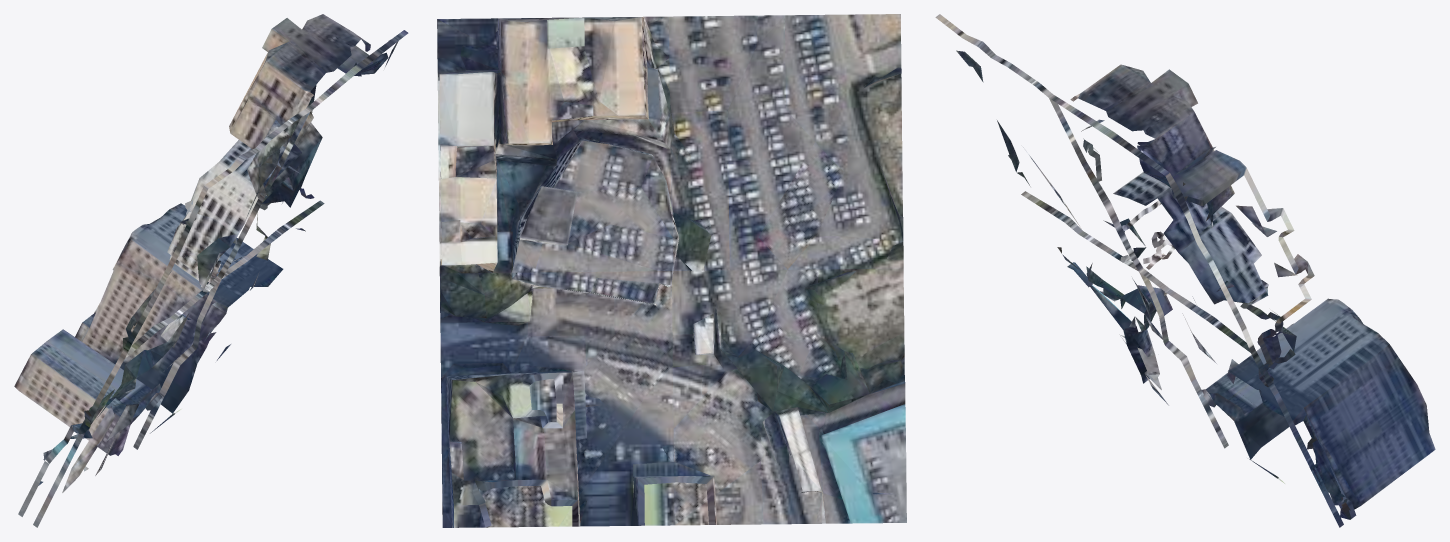
The picture shows the model from 3 angles, left to right: view 1: azimuth 30°, elevation 25°; view 2: azimuth 150°, elevation 25°; view 3: azimuth 270°, elevation 25°; orthographic projection. The views are drawn at different scales.
Size of the model in its own units: 156 by 151 by 158.
2 materials, 2 textured.
